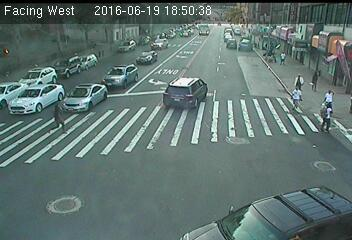neg: (104, 85, 140, 133), (229, 73, 261, 115), (130, 43, 154, 74), (86, 51, 106, 77), (56, 63, 75, 89), (190, 87, 208, 112), (214, 33, 231, 56), (319, 36, 336, 59)
pos: (45, 102, 69, 135), (317, 101, 340, 132), (289, 87, 308, 112), (308, 70, 326, 93), (277, 49, 291, 67)
